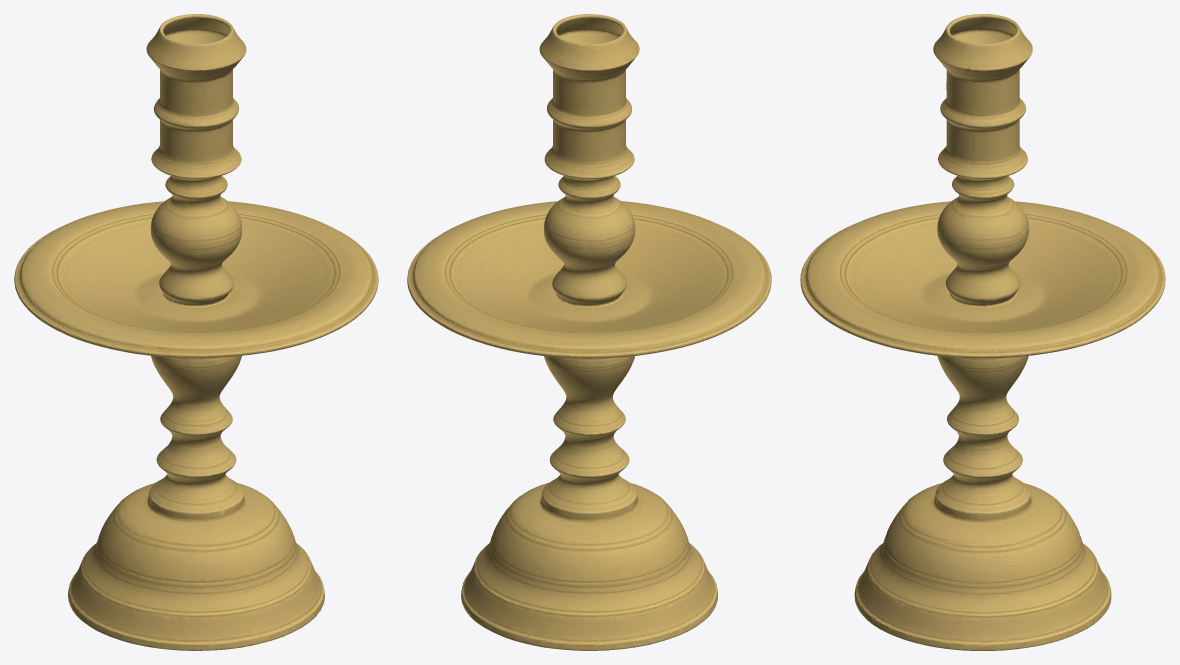
Rendered from Meshy_AI_Golden_Candle_Holder_1013161456_texture.fbx.
3 renders of one model, left to right at view 1: azimuth 30°, elevation 25°; view 2: azimuth 150°, elevation 25°; view 3: azimuth 270°, elevation 25°, orthographic.
Parts seen in each view (by area): view 1: Mesh_0; view 2: Mesh_0; view 3: Mesh_0.
Part boxes in pixels (x1=…): Mesh_0: x1=14, y1=14, x2=378, y2=650; Mesh_0: x1=407, y1=14, x2=771, y2=650; Mesh_0: x1=800, y1=14, x2=1165, y2=650.
Bounding box in the file's own units: 110 × 190 × 111.
Materials: 1 (1 with a texture image).
